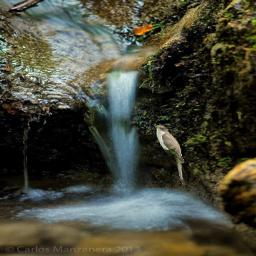Cuckoo: (152, 123, 185, 185)
